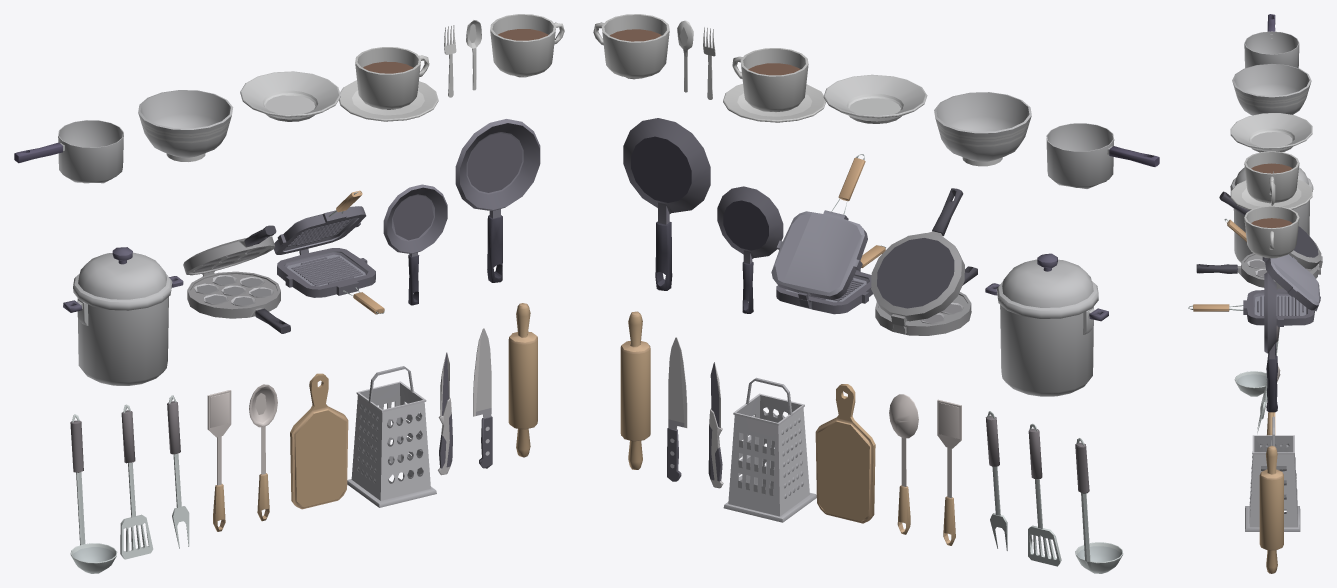
The model's file is kitchen_appliances.glb.
3 views of the same model, side by side, from view 1: azimuth 30°, elevation 25°; view 2: azimuth 150°, elevation 25°; view 3: azimuth 270°, elevation 25° (orthographic). The views are drawn at different scales.
Parts seen in each view (by area): view 1: Big frying pan__0; view 2: Big frying pan__0; view 3: Big frying pan__0.
Boxes of the visible parts, <box> form: Big frying pan__0: <box>14,14,564,573</box>; Big frying pan__0: <box>593,14,1159,573</box>; Big frying pan__0: <box>1188,14,1322,573</box>.
Size of the model in its own units: 5.05 by 3.97 by 1.3.
